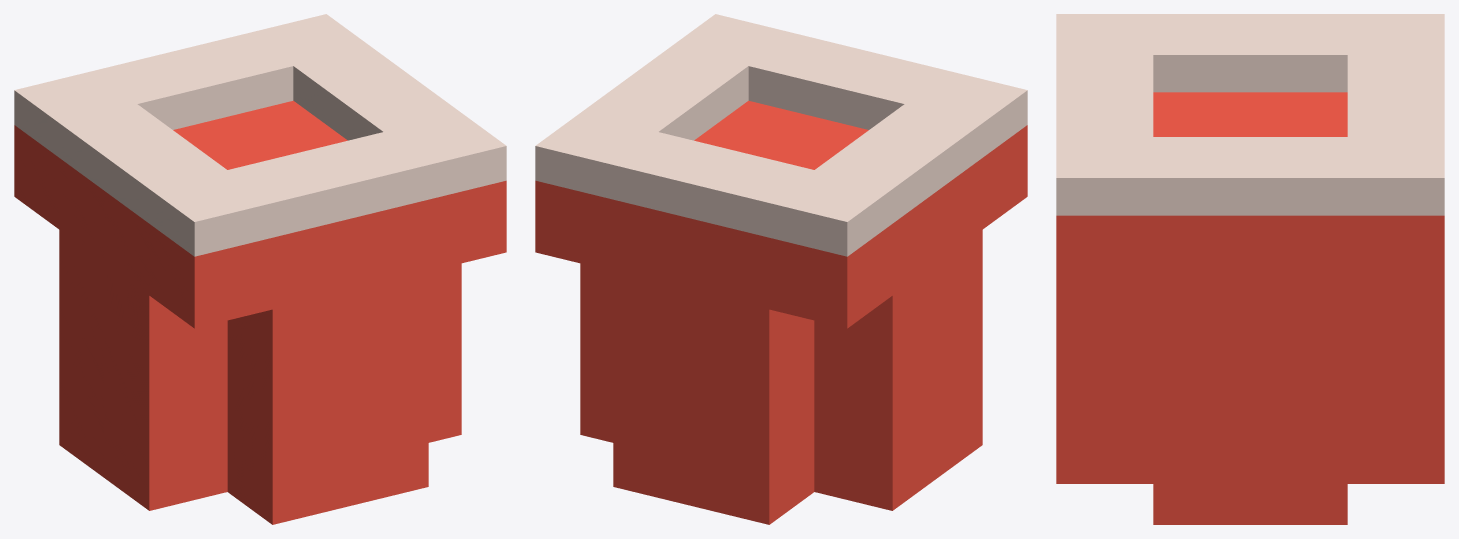
Rendered from Wall_Top_04.fbx.
3 views of the same model, side by side, from view 1: azimuth 30°, elevation 25°; view 2: azimuth 150°, elevation 25°; view 3: azimuth 270°, elevation 25° (orthographic). The views are drawn at different scales.
Parts seen in each view (by area): view 1: Cube.313; view 2: Cube.313; view 3: Cube.313.
Part boxes in pixels (left/top/right/bottom): Cube.313: left=14, top=14, right=506, bottom=524; Cube.313: left=535, top=14, right=1027, bottom=524; Cube.313: left=1056, top=14, right=1444, bottom=524.
Size of the model in its own units: 100 by 98.53 by 100.
